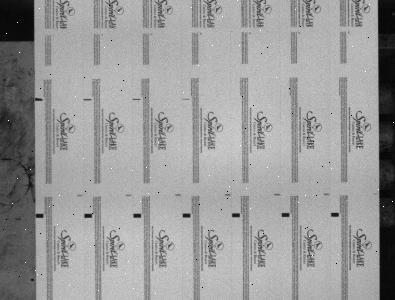backgroundclutter: (31, 278, 34, 281)
incorrect qblock: (35, 98, 43, 101), (83, 98, 91, 101), (274, 193, 281, 196), (132, 98, 141, 100), (225, 193, 231, 196), (77, 194, 83, 197), (182, 98, 190, 100), (175, 194, 182, 196), (324, 193, 330, 195), (126, 194, 132, 196)
qblock: (331, 212, 340, 217), (133, 213, 142, 218), (36, 213, 44, 218), (84, 213, 92, 218), (183, 213, 191, 218), (232, 213, 241, 217), (282, 213, 290, 217)
